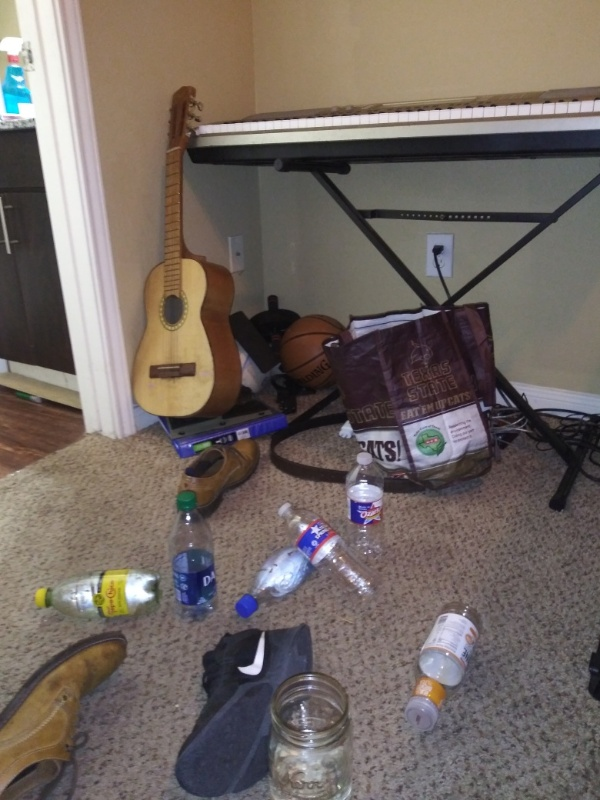bottle: (395, 600, 494, 734), (274, 493, 383, 606), (25, 563, 159, 629), (164, 488, 224, 623), (231, 542, 325, 621), (342, 451, 389, 560)
